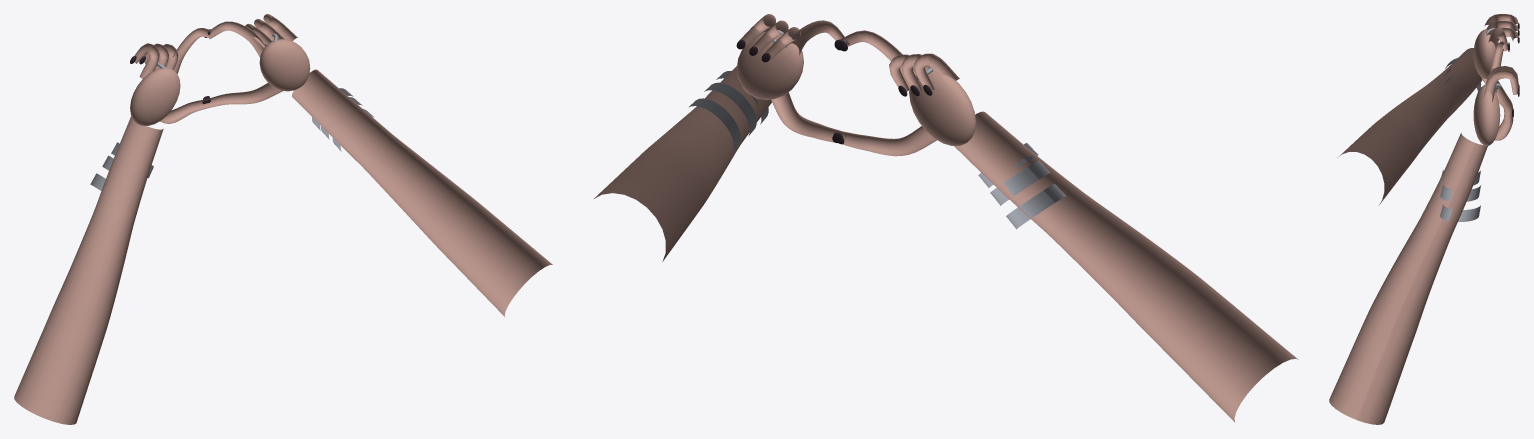
The model's file is hands-heart.glb.
3 renders of one model, left to right at view 1: azimuth 30°, elevation 25°; view 2: azimuth 150°, elevation 25°; view 3: azimuth 270°, elevation 25°, orthographic. The views are drawn at different scales.
Parts seen in each view (by area): view 1: hand-1, hand-0; view 2: hand-0, hand-1; view 3: hand-1, hand-0.
Part boxes in pixels (x1=…): hand-1: x1=202, y1=14, x2=552, y2=317; hand-0: x1=14, y1=28, x2=211, y2=424; hand-0: x1=832, y1=30, x2=1298, y2=422; hand-1: x1=594, y1=14, x2=849, y2=261; hand-1: x1=1329, y1=41, x2=1519, y2=424; hand-0: x1=1337, y1=14, x2=1519, y2=204.
Bounding box in the file's own units: 1.15 × 0.6062 × 0.3704.
